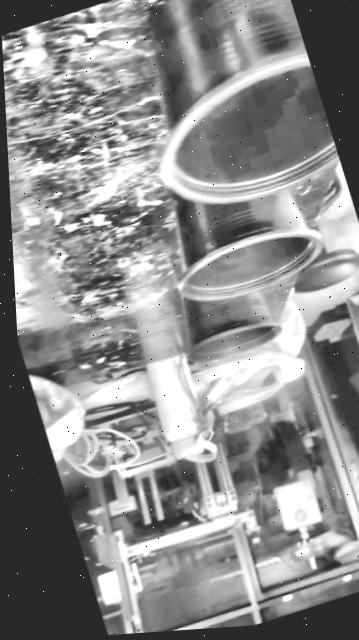pot: (118, 0, 344, 222), (171, 191, 321, 301), (182, 291, 280, 361)
